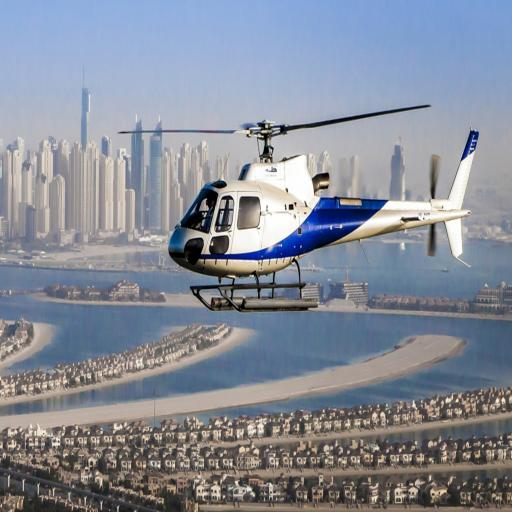helicopter: (120, 80, 490, 329)
